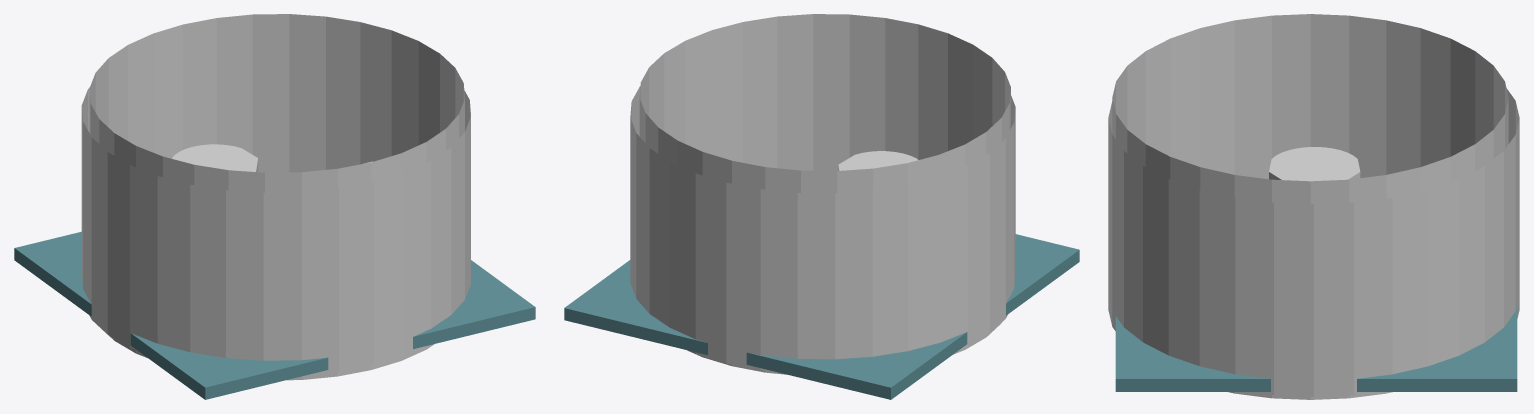
The model's file is level1basic 1.fbx.
3 views of the same model, side by side, from view 1: azimuth 30°, elevation 25°; view 2: azimuth 150°, elevation 25°; view 3: azimuth 270°, elevation 25° (orthographic). The views are drawn at different scales.
Parts seen in each view (by area): view 1: Cylinder, Cube, Cylinder.002; view 2: Cylinder, Cube, Cylinder.001; view 3: Cylinder, Cube, Cylinder.004.
Boxes of the visible parts, <box> form: Cylinder: <box>81,14,470,380</box>; Cube: <box>14,231,535,399</box>; Cylinder.002: <box>172,144,258,172</box>; Cylinder: <box>630,14,1015,374</box>; Cube: <box>564,234,1079,399</box>; Cylinder.001: <box>838,151,918,170</box>; Cylinder: <box>1108,14,1519,399</box>; Cube: <box>1115,305,1517,391</box>; Cylinder.004: <box>1269,147,1360,181</box>.
Bounding box in the file's own units: 14.32 × 8.41 × 14.34.
